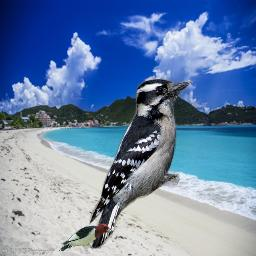Woodpecker: (89, 76, 192, 251), (56, 221, 115, 255)
